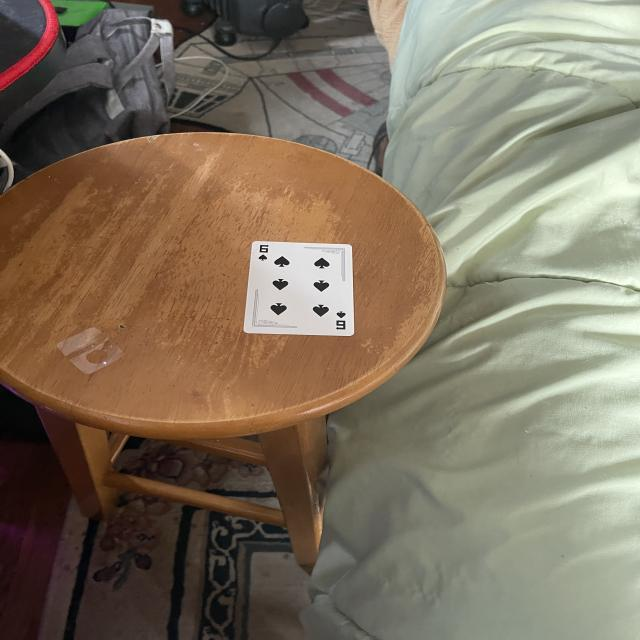6 of spades: (243, 241, 356, 335)
